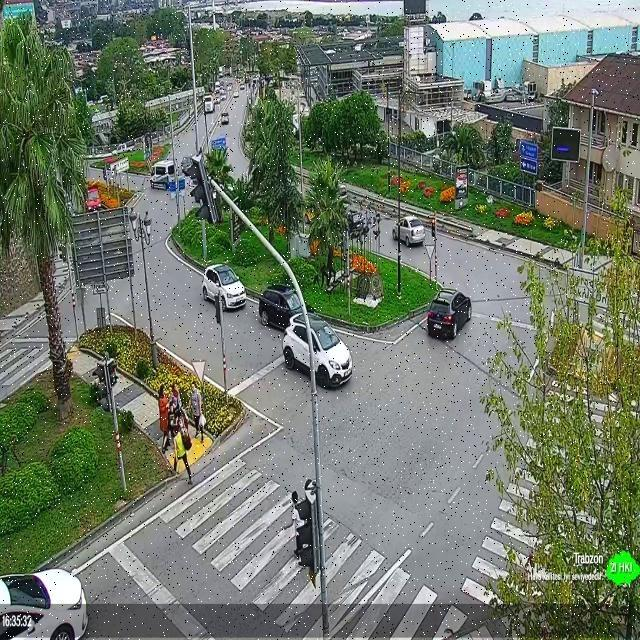Car: (0, 568, 88, 638), (280, 314, 352, 388), (259, 283, 319, 329), (427, 288, 474, 340), (202, 263, 246, 310), (392, 215, 427, 247), (221, 112, 229, 124)
Van: (150, 162, 176, 190)
